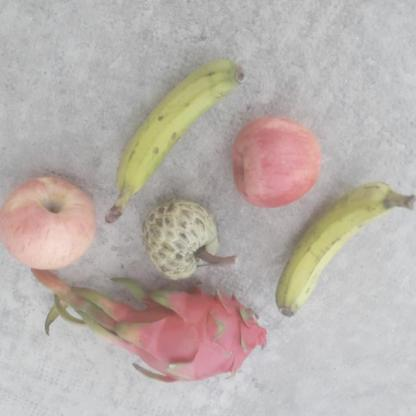annona: (139, 199, 232, 281)
apple: (228, 110, 323, 210), (0, 176, 100, 270)
banana: (102, 58, 253, 226), (272, 180, 416, 320)
pitaya: (102, 284, 274, 392)
